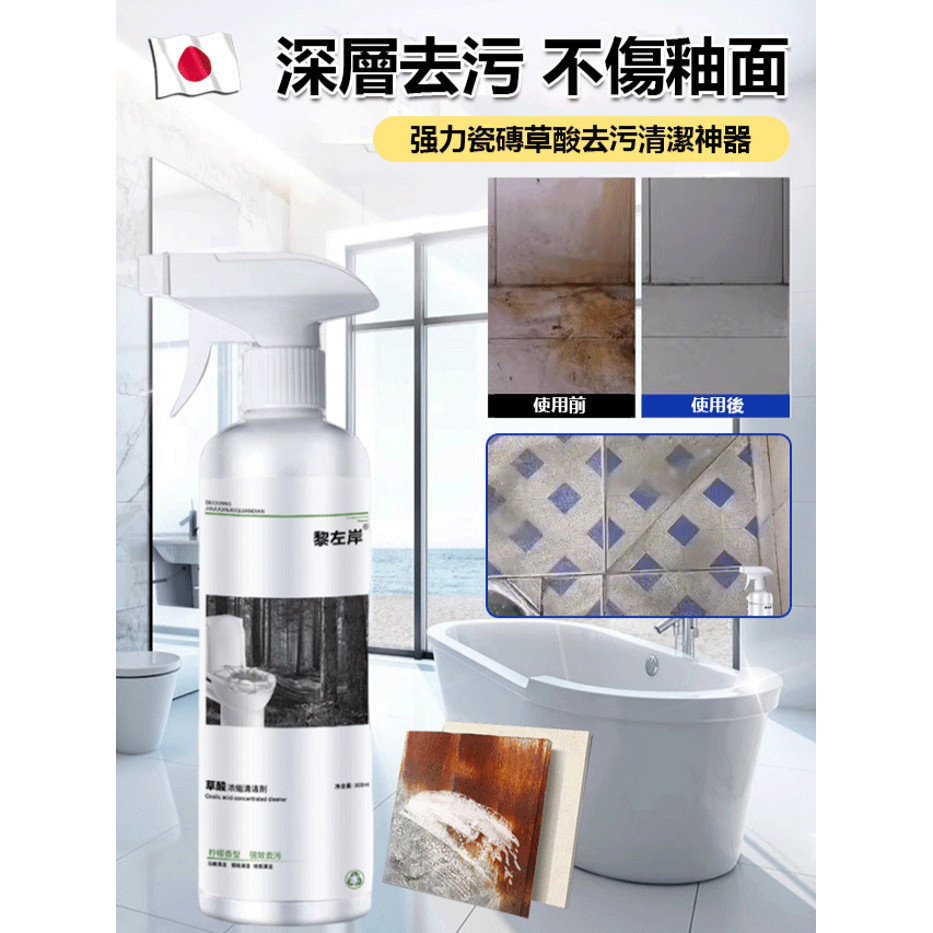cleaner: (131, 248, 384, 928)
